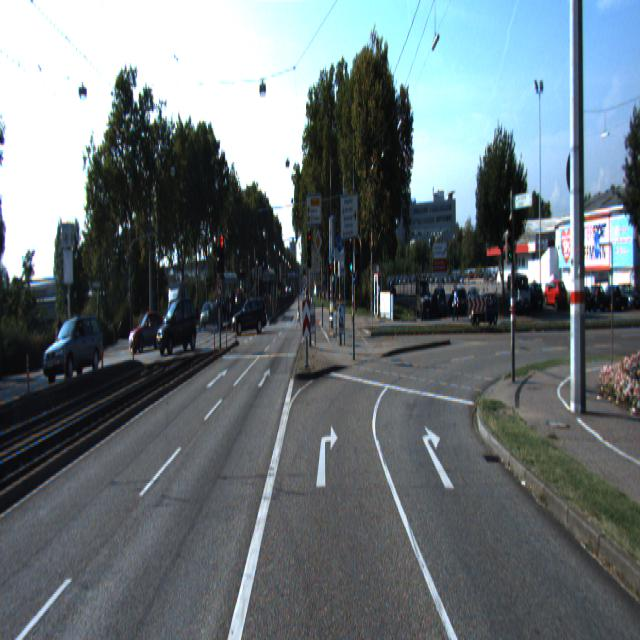Car: (43, 313, 107, 388), (156, 298, 197, 356), (129, 310, 170, 356), (231, 294, 269, 337), (467, 288, 499, 324)
